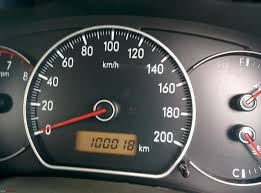Digital_Meter: (74, 129, 139, 155)
